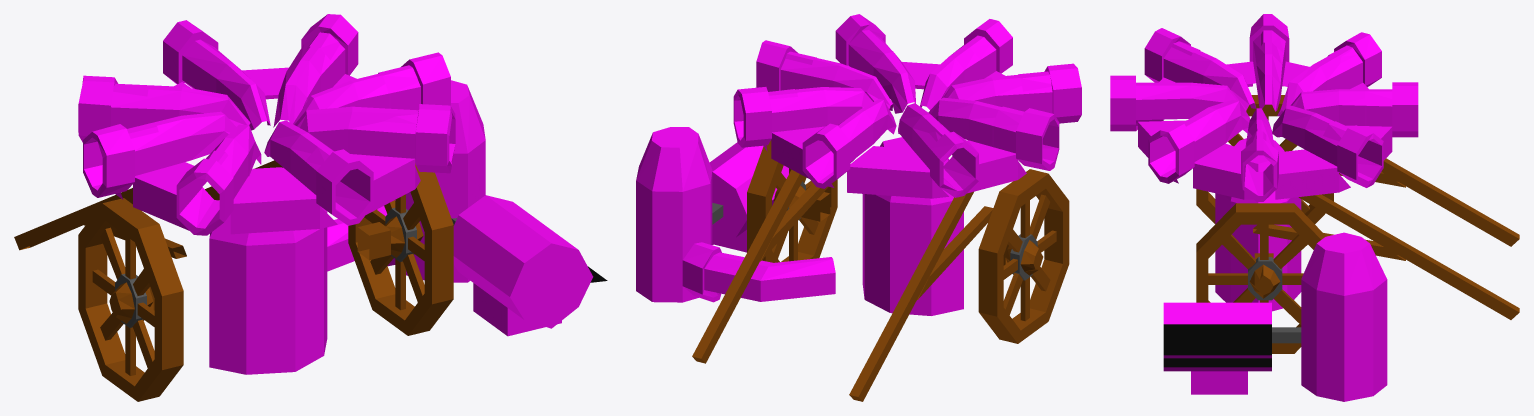
File: dwarf multicannon.obj
3 renders of one model, left to right at view 1: azimuth 30°, elevation 25°; view 2: azimuth 150°, elevation 25°; view 3: azimuth 270°, elevation 25°, orthographic. The views are drawn at different scales.
Visible parts, largest first — view 1: dwarf multicannon_back, dwarf multicannon_front; view 2: dwarf multicannon_back, dwarf multicannon_front; view 3: dwarf multicannon_back, dwarf multicannon_front.
Boxes of the visible parts, x1,y1,x2,y2 form: dwarf multicannon_back: (14, 14, 607, 401); dwarf multicannon_front: (209, 80, 593, 374); dwarf multicannon_back: (682, 14, 1081, 401); dwarf multicannon_front: (636, 127, 963, 315); dwarf multicannon_back: (1110, 14, 1519, 367); dwarf multicannon_front: (1163, 138, 1387, 401).
Bounding box in the file's own units: 2.48 × 1.38 × 2.38.
